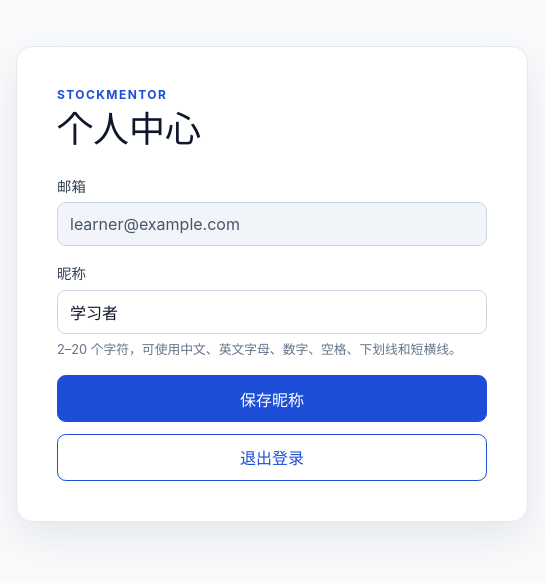
ProfileView › renders safe nickname errors and never raw errors
Replace the text in the field labelled "昵称" with "长期学习者" at (272, 312), box top-left (57, 290), bottom-right (487, 334)
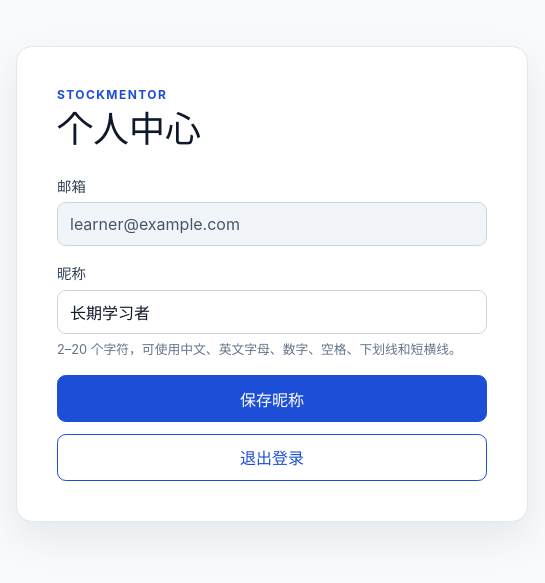
Submit the form, box top-left (57, 175), bottom-right (487, 422)
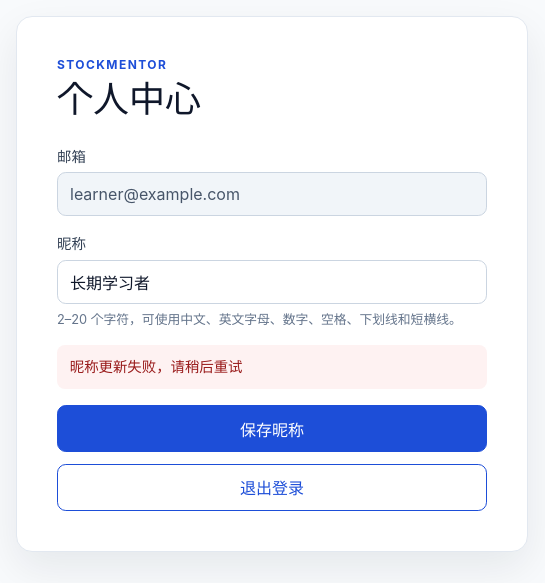
Now the message "昵称更新失败，请稍后重试" is shown, box top-left (57, 345), bottom-right (487, 389)
